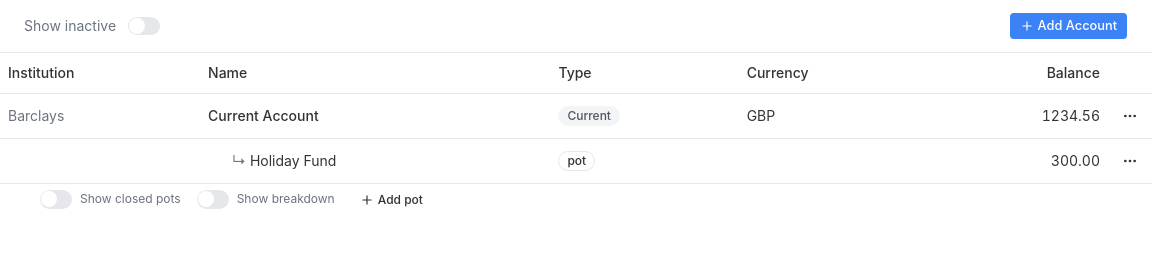
AccountsScreen — pot child rows › shows closed pot when 'Show closed pots' toggle is enabled
Expected: the text "Holiday Fund" is shown, [250, 152, 336, 168]
Click the switch named "show closed pots for current account": (56, 200) [40, 190, 72, 209]
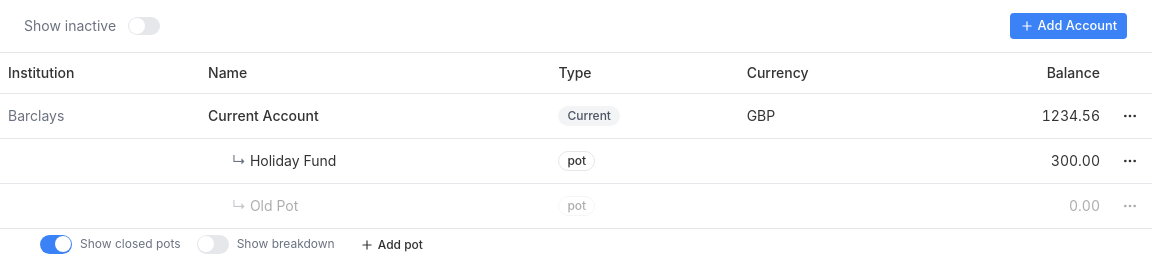
Expected: the text "Old Pot" is shown, [250, 196, 298, 214]
